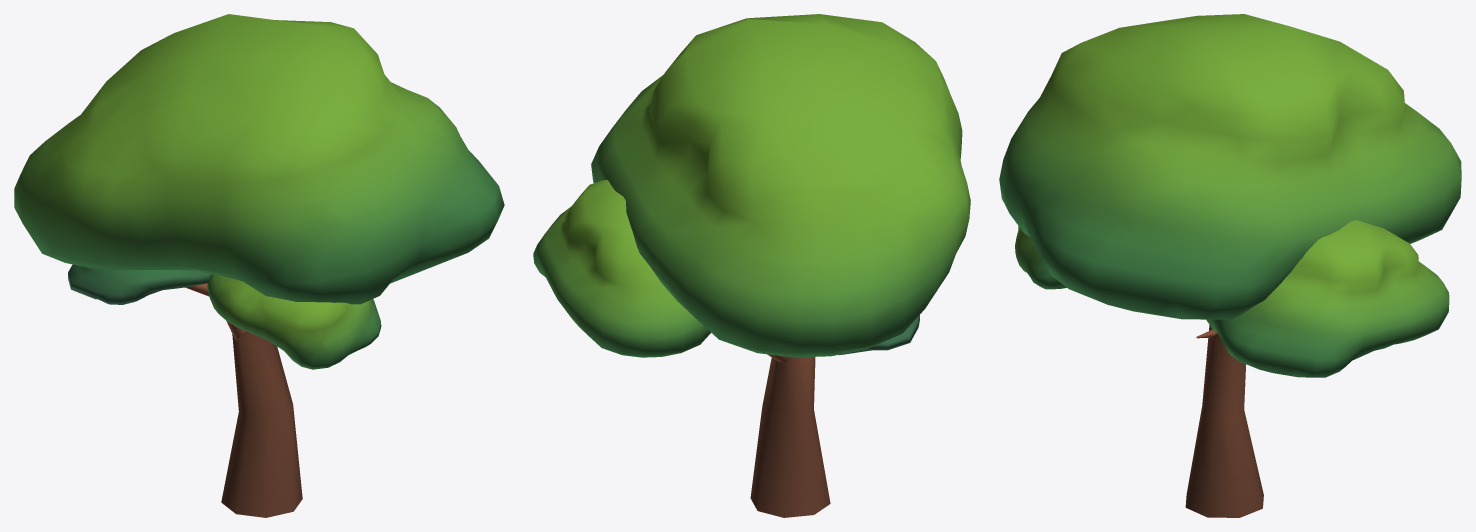
Rendered from pohon_3.fbx.
The picture shows the model from 3 angles, left to right: view 1: azimuth 30°, elevation 25°; view 2: azimuth 150°, elevation 25°; view 3: azimuth 270°, elevation 25°; orthographic projection. The views are drawn at different scales.
Visible parts, largest first — view 1: pohon_3; view 2: pohon_3; view 3: pohon_3.
Part boxes in pixels (x1=…): pohon_3: x1=14, y1=14, x2=504, y2=517; pohon_3: x1=533, y1=14, x2=970, y2=517; pohon_3: x1=999, y1=14, x2=1461, y2=517.
Size of the model in its own units: 14.14 by 16.04 by 14.01.
1 material, 1 textured.
